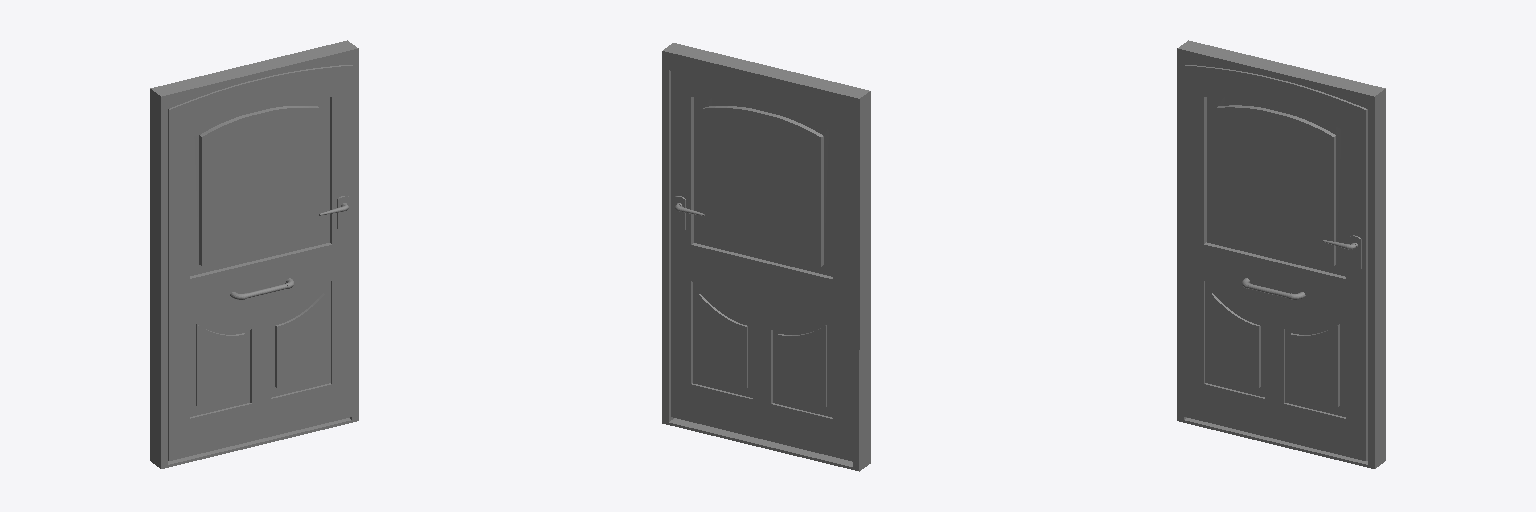
The model's file is door.obj.
The picture shows the model from 3 angles: view 1: azimuth 30°, elevation 25°; view 2: azimuth 150°, elevation 25°; view 3: azimuth 330°, elevation 25°; orthographic projection.
Parts seen in each view (by area): view 1: door, 7al2; view 2: door, 7al2; view 3: door, 7al2.
Part boxes in pixels (bbox=[...]): door: bbox=[168, 65, 352, 460]; 7al2: bbox=[150, 40, 358, 468]; door: bbox=[671, 71, 852, 461]; 7al2: bbox=[662, 43, 870, 471]; door: bbox=[1183, 65, 1367, 460]; 7al2: bbox=[1177, 40, 1385, 468].
Size of the model in its own units: 54.69 by 98.71 by 11.16.